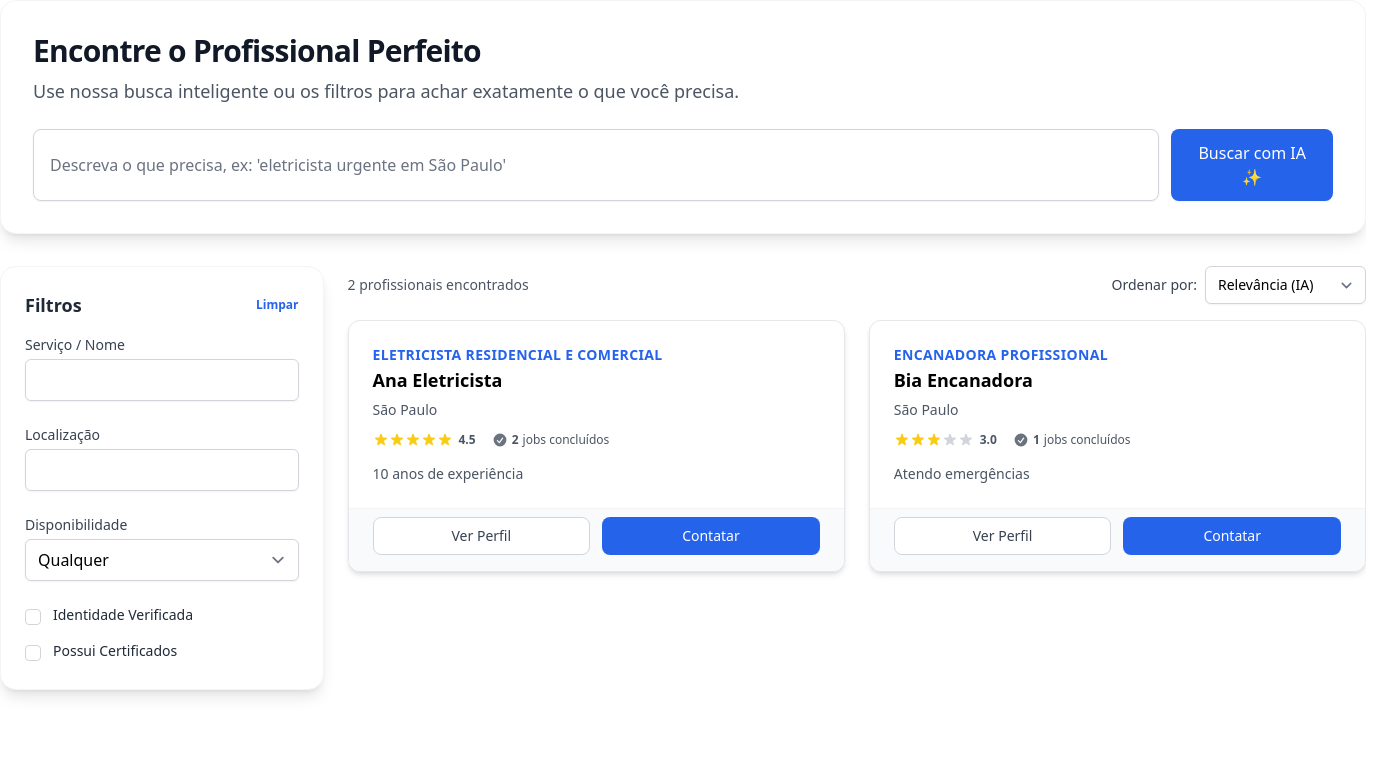
Test: FindProvidersPage › executa busca com IA (fallback) via formulário superior
Replace the text in the field with placeholder "eletricista urgente" with "encanadora": (596, 165) [33,129,1159,201]
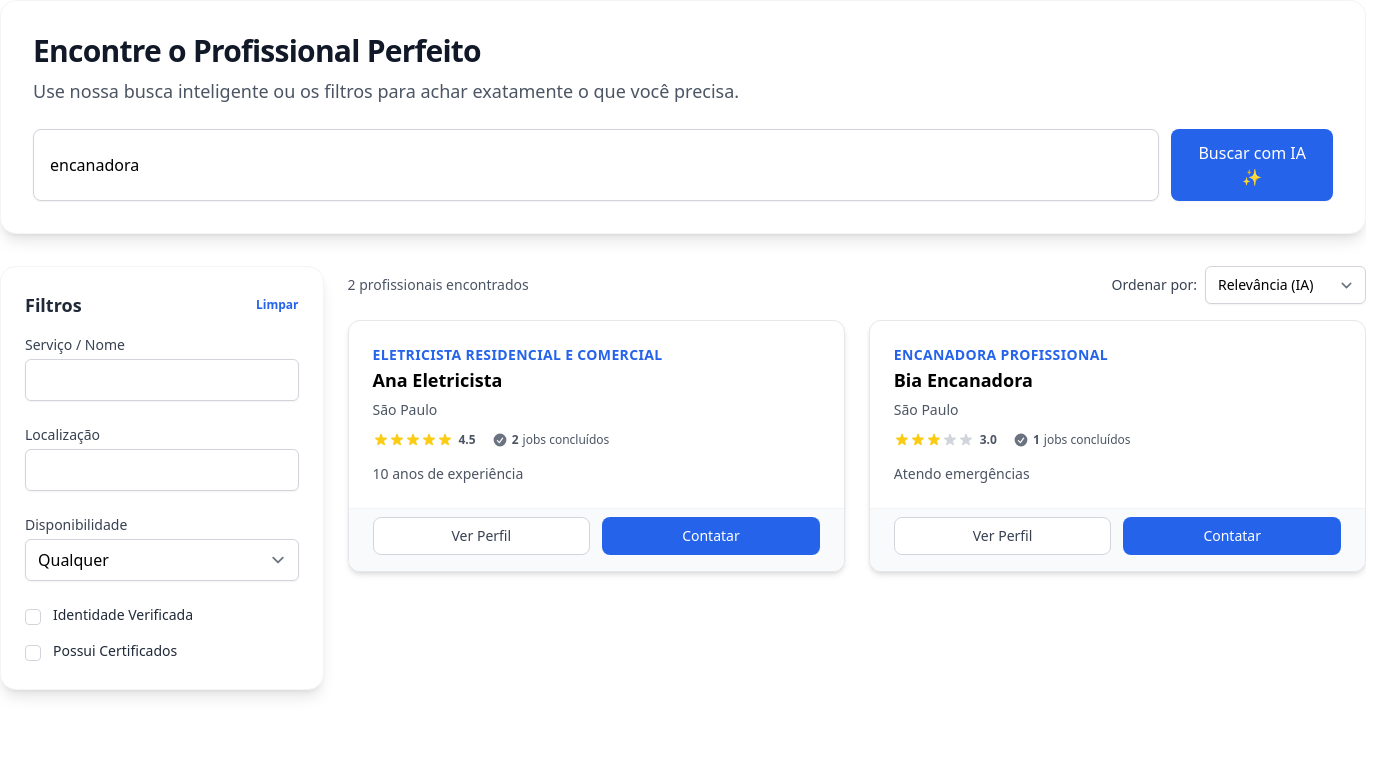
Click the button "Buscar com IA ✨": (1252, 165) [1171,129,1333,201]
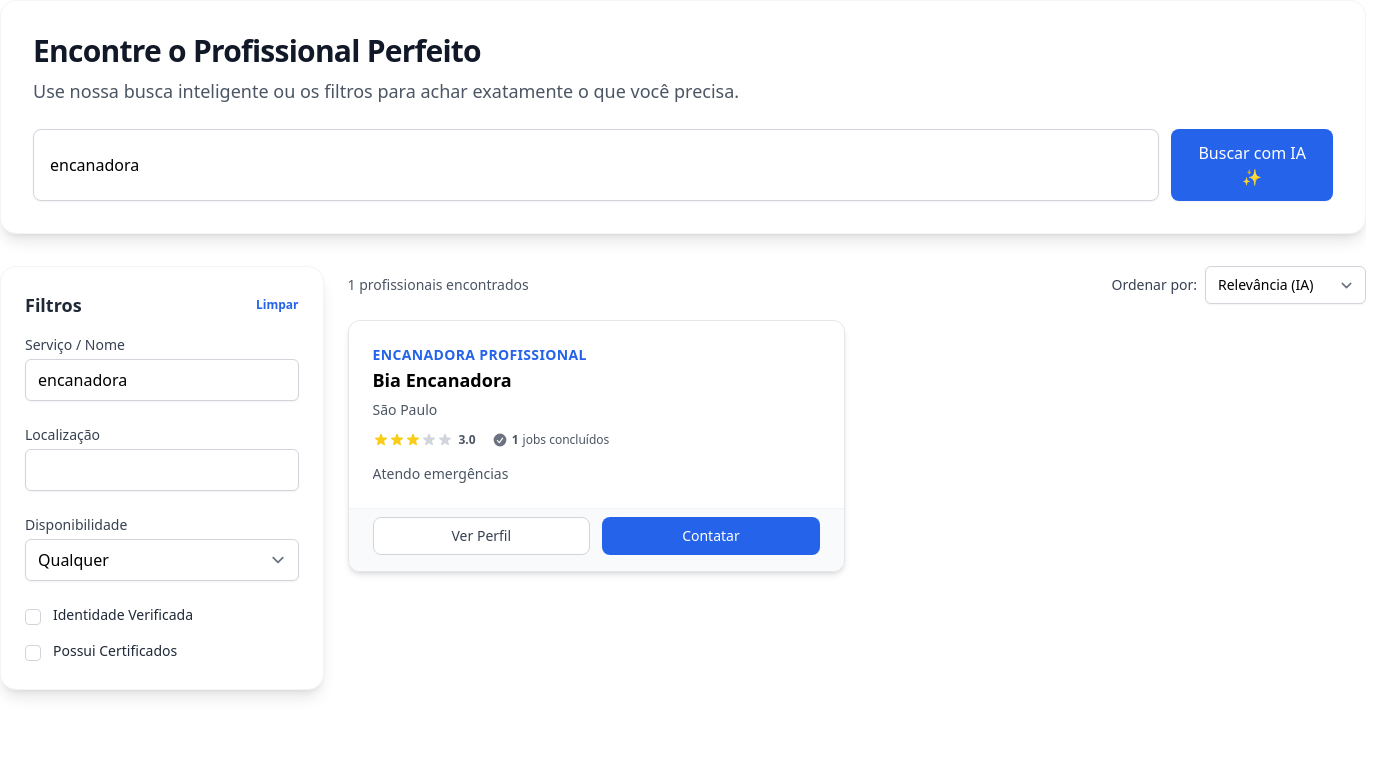
Expected: the text "1 profissionais encontrados" is shown, [348,275,529,295]
